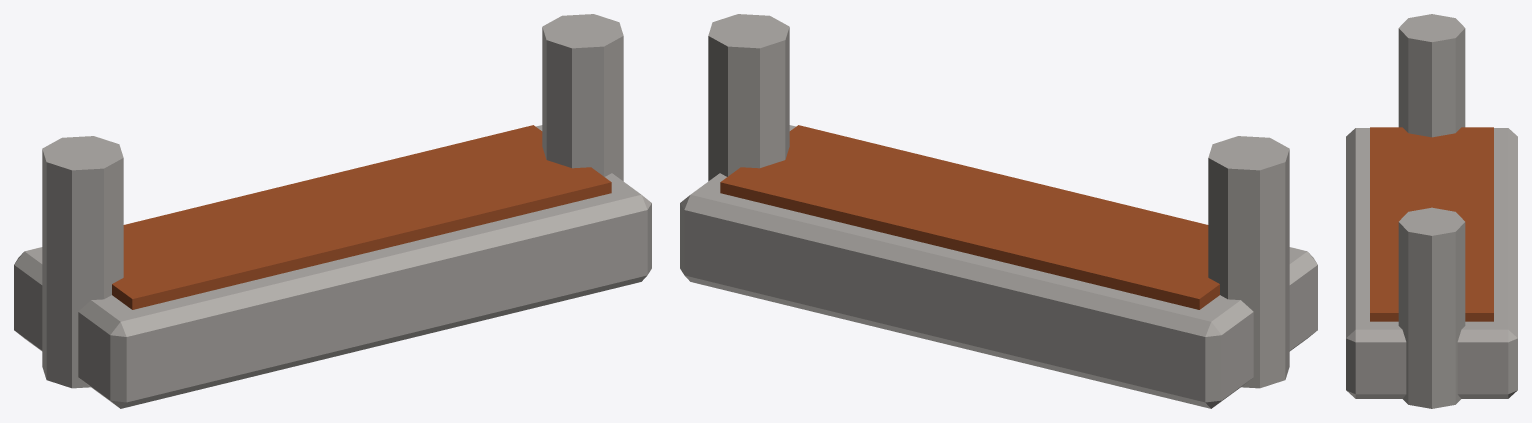
Rendered from Braseiro.fbx.
3 views of the same model, side by side, from view 1: azimuth 30°, elevation 25°; view 2: azimuth 150°, elevation 25°; view 3: azimuth 270°, elevation 25° (orthographic). The views are drawn at different scales.
Visible parts, largest first — view 1: Braseiro; view 2: Braseiro; view 3: Braseiro.
Boxes of the visible parts, bbox=[...] form: Braseiro: bbox=[14, 14, 651, 408]; Braseiro: bbox=[680, 14, 1317, 408]; Braseiro: bbox=[1346, 14, 1517, 408].
Bounding box in the file's own units: 2.75 × 1 × 0.9.
